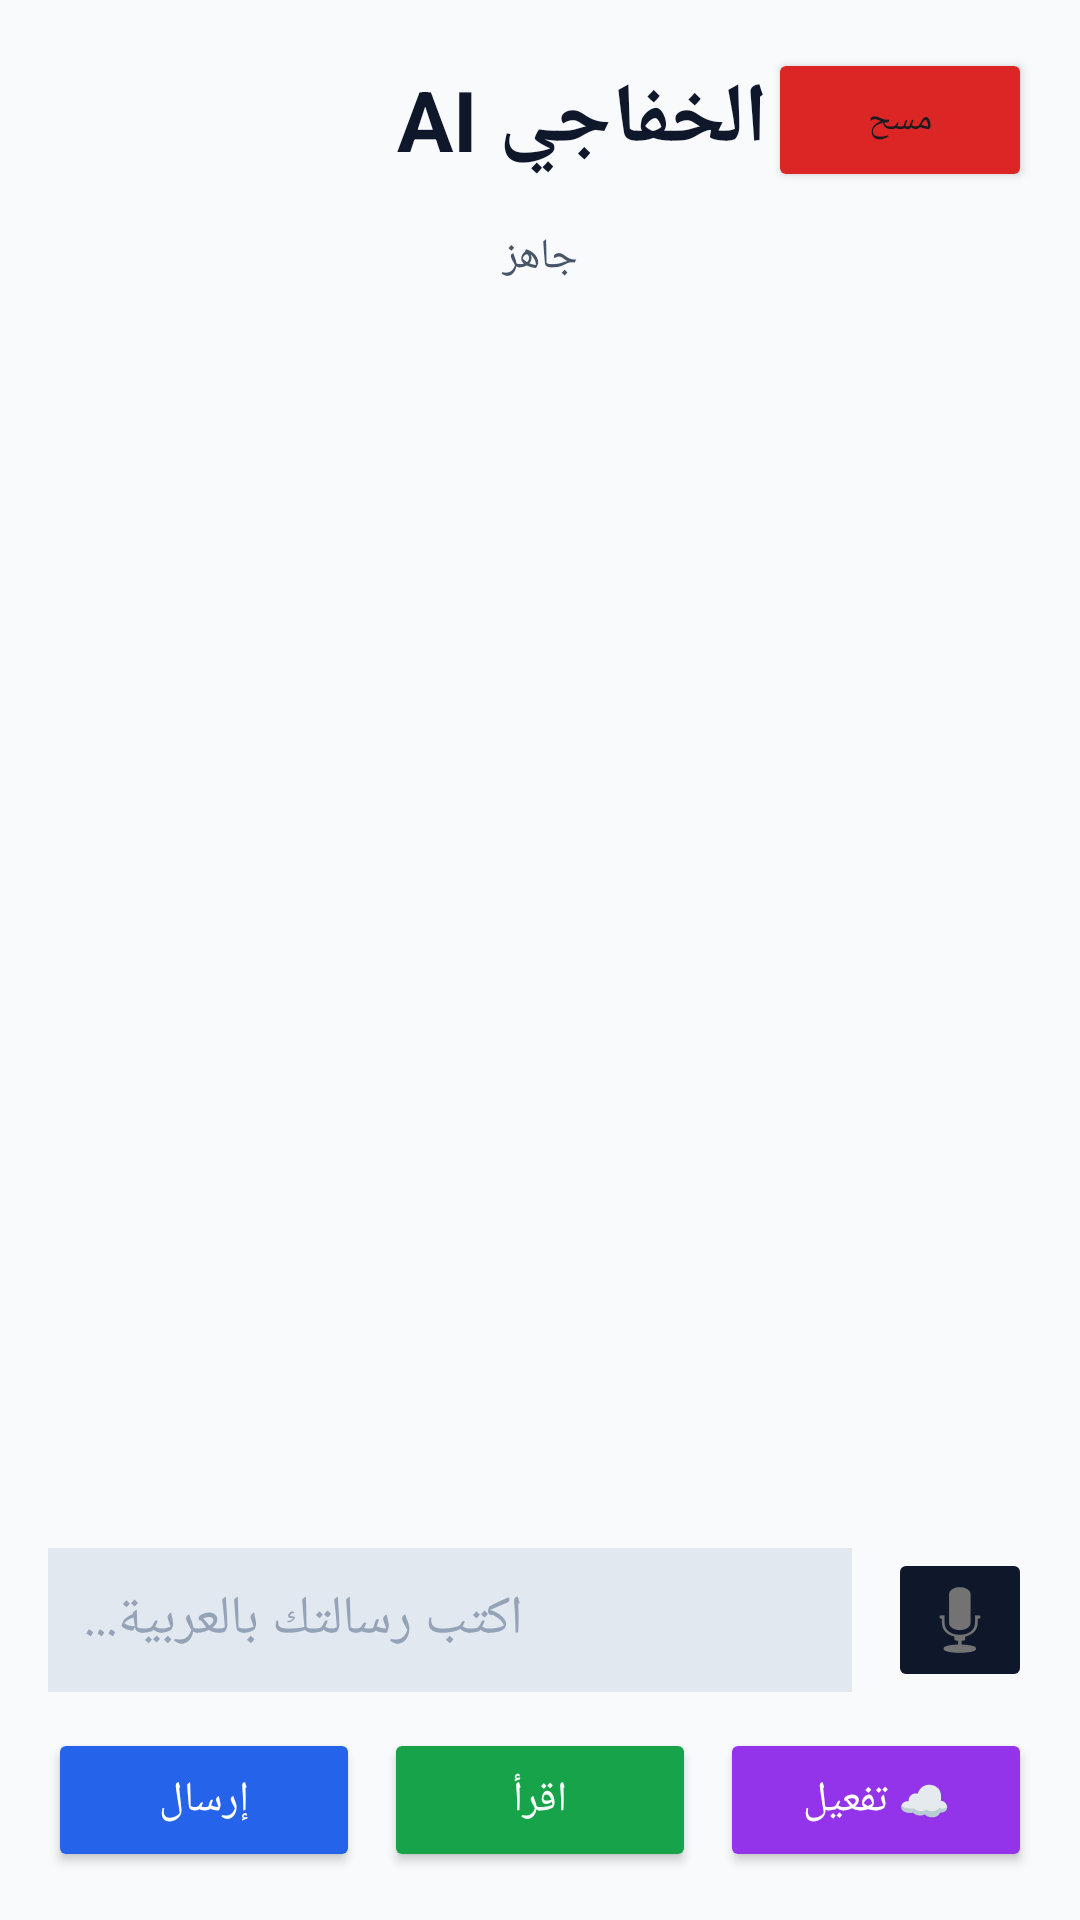

Icon bounding boxes for this 1080 x 1920 phone screenshot, format rect(x1, y1, x2, y2):
voice: rect(900, 1566, 1020, 1674)
